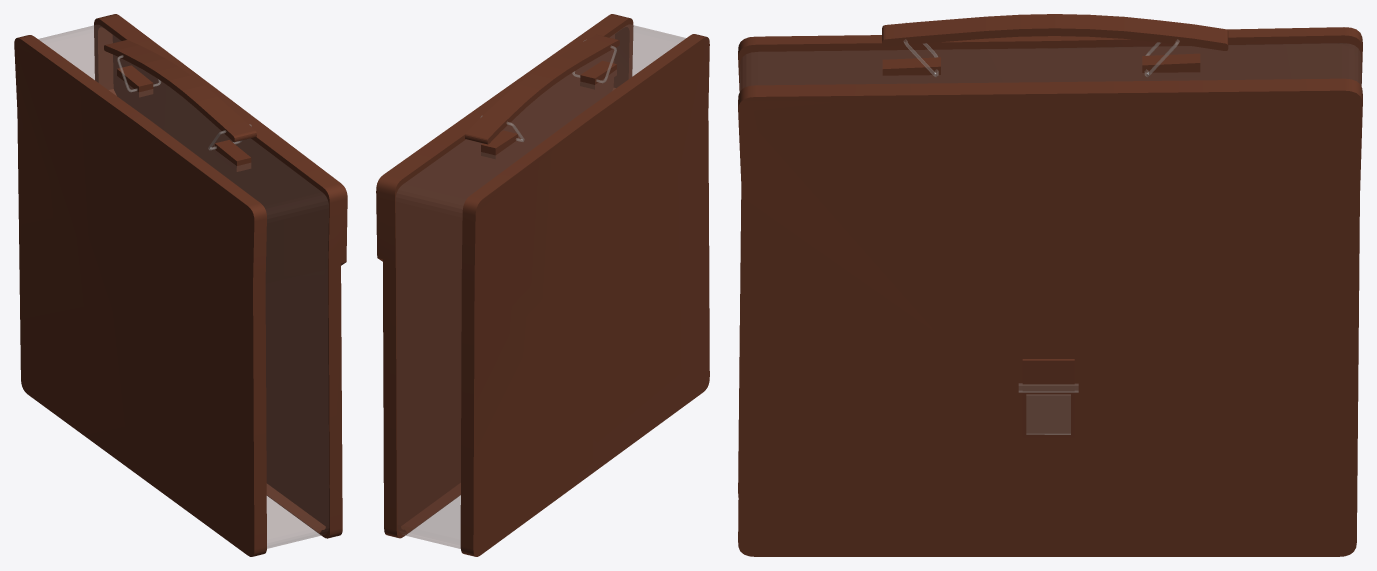
The model's file is Briefcase.glb.
The picture shows the model from 3 angles, left to right: view 1: azimuth 30°, elevation 25°; view 2: azimuth 150°, elevation 25°; view 3: azimuth 270°, elevation 25°; orthographic projection. The views are drawn at different scales.
Parts seen in each view (by area): view 1: Briefcase; view 2: Briefcase; view 3: Briefcase.
Boxes of the visible parts, bbox=[...] form: Briefcase: bbox=[14, 14, 347, 556]; Briefcase: bbox=[376, 14, 709, 556]; Briefcase: bbox=[738, 14, 1362, 556].
Bounding box in the file's own units: 92749 × 333452 × 371456.
